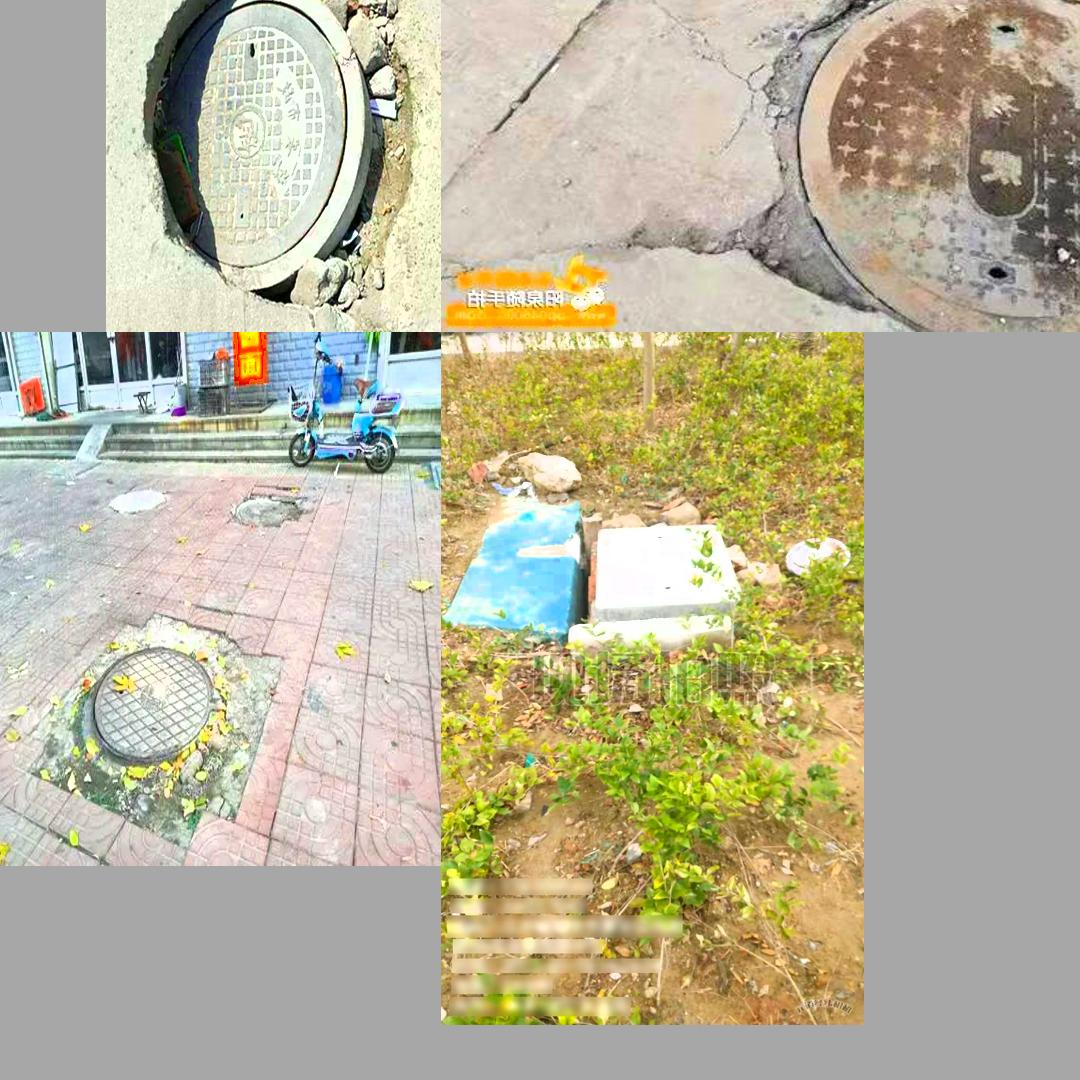circle: (662, 0, 1080, 323), (144, 0, 408, 300), (47, 612, 272, 840), (565, 516, 751, 642)
